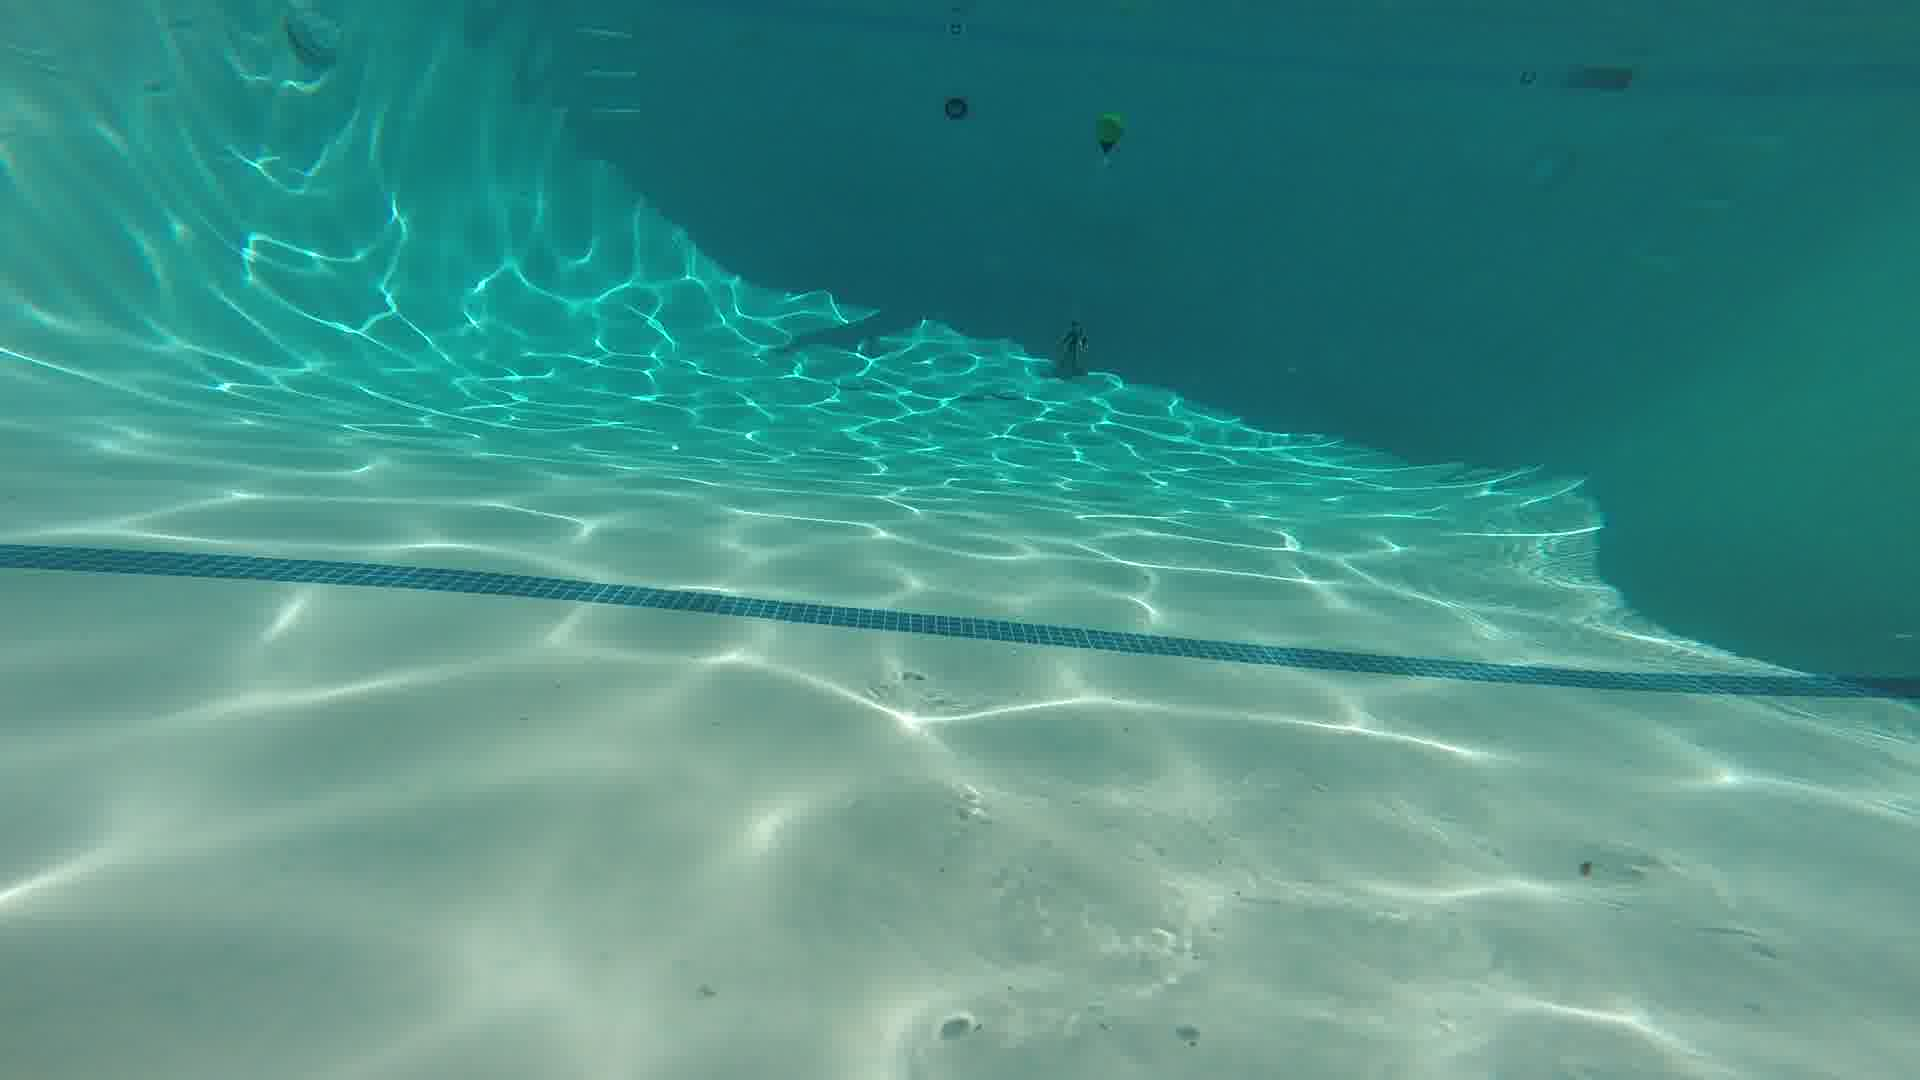yellow_buoy: (1087, 100, 1131, 171)
